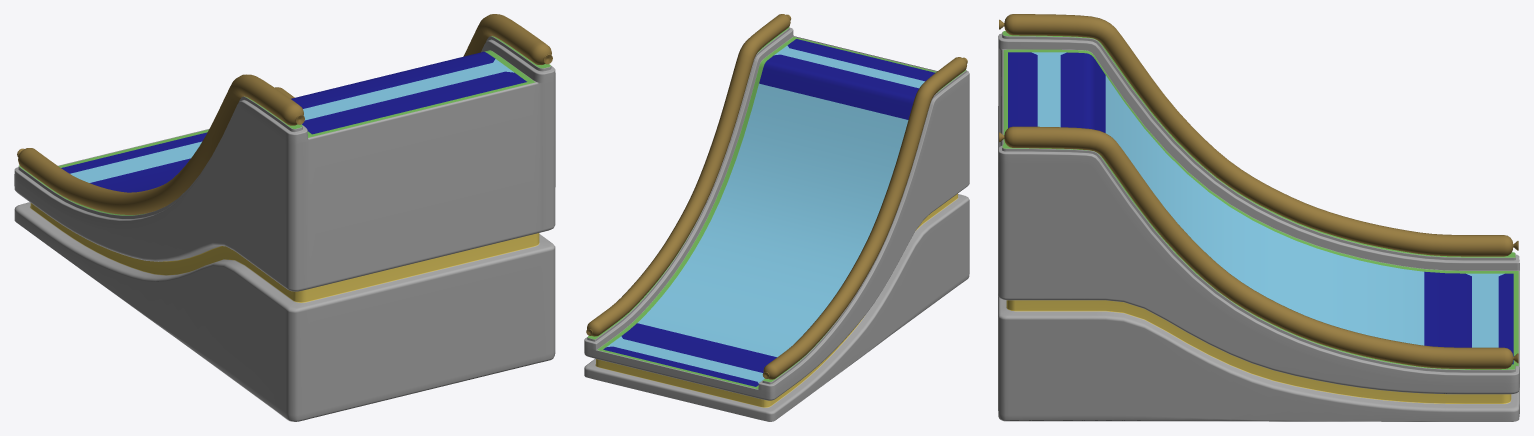
Rendered from SM_Quarterpipe_01.fbx.
3 renders of one model, left to right at view 1: azimuth 30°, elevation 25°; view 2: azimuth 150°, elevation 25°; view 3: azimuth 270°, elevation 25°, orthographic. The views are drawn at different scales.
Parts seen in each view (by area): view 1: SM_Quarterpipe_01; view 2: SM_Quarterpipe_01; view 3: SM_Quarterpipe_01.
Boxes of the visible parts, <box> form: SM_Quarterpipe_01: <box>14,14,555,421</box>; SM_Quarterpipe_01: <box>584,14,969,421</box>; SM_Quarterpipe_01: <box>998,14,1519,421</box>.
Size of the model in its own units: 1336 by 1486 by 2422.
